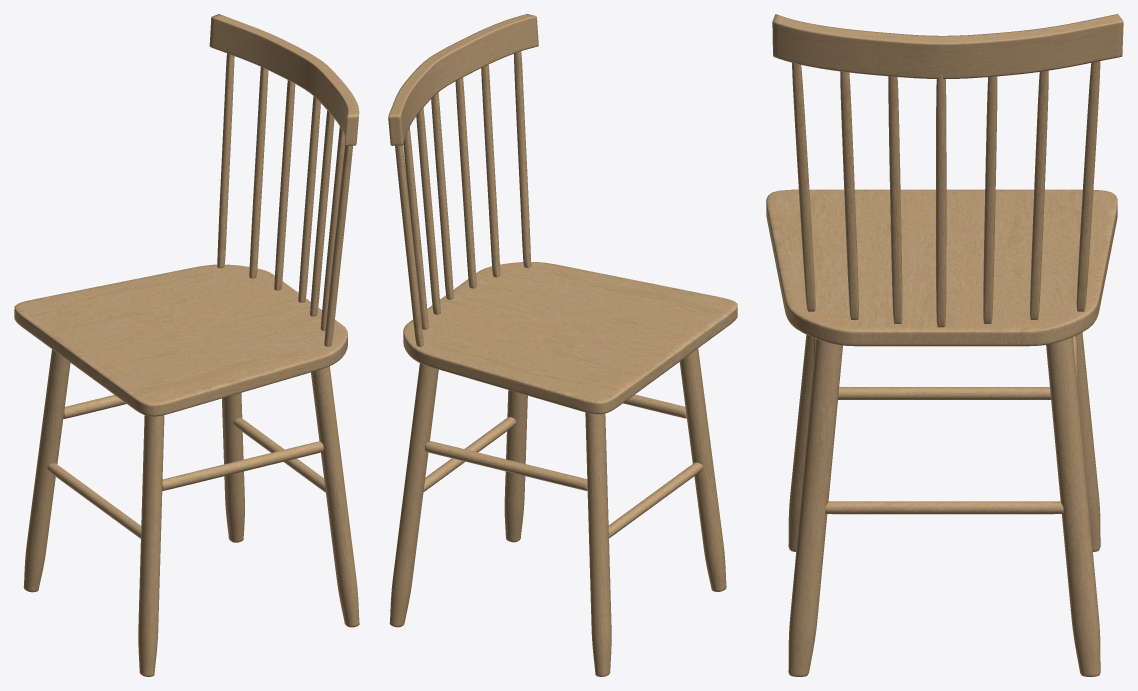
File: Chair_Kitchen.fbx
3 renders of one model, left to right at view 1: azimuth 30°, elevation 25°; view 2: azimuth 150°, elevation 25°; view 3: azimuth 270°, elevation 25°, orthographic. The views are drawn at different scales.
Parts seen in each view (by area): view 1: Chair; view 2: Chair; view 3: Chair.
Boxes of the visible parts, left/top/right/bottom form: Chair: left=14, top=14, right=359, bottom=676; Chair: left=388, top=14, right=737, bottom=676; Chair: left=766, top=14, right=1123, bottom=676.
Bounding box in the file's own units: 48.79 × 98.57 × 48.93.
Materials: 1 (1 with a texture image).
